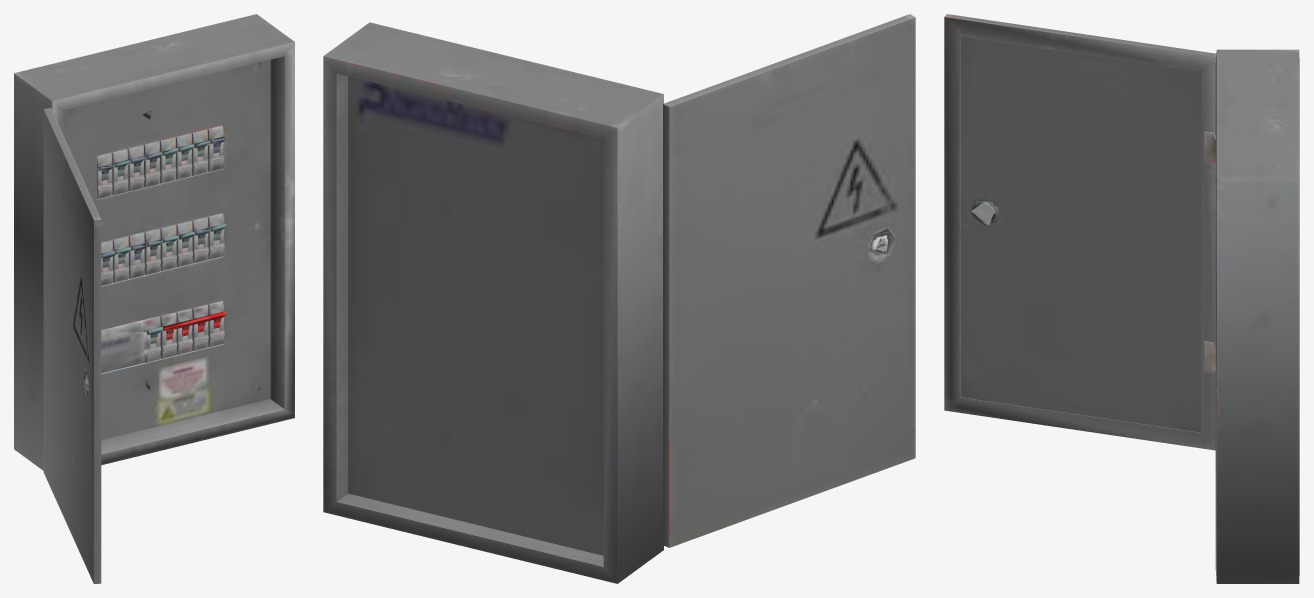
File: power_box_01.glb
3 views of the same model, side by side, from view 1: azimuth 30°, elevation 25°; view 2: azimuth 150°, elevation 25°; view 3: azimuth 270°, elevation 25° (orthographic). The views are drawn at different scales.
Parts seen in each view (by area): view 1: power_box_01_door; view 2: power_box_01_door; view 3: power_box_01_door, power_box_01_door_lo.
Part boxes in pixels (box(x1,y1,x2,y2)): power_box_01_door: box(14, 14, 294, 583); power_box_01_door: box(323, 14, 915, 583); power_box_01_door: box(944, 14, 1299, 583); power_box_01_door_lo: box(961, 134, 1215, 432).
Bounding box in the file's own units: 0.456 × 0.5031 × 0.399.
Materials: 1 (1 with a texture image).
